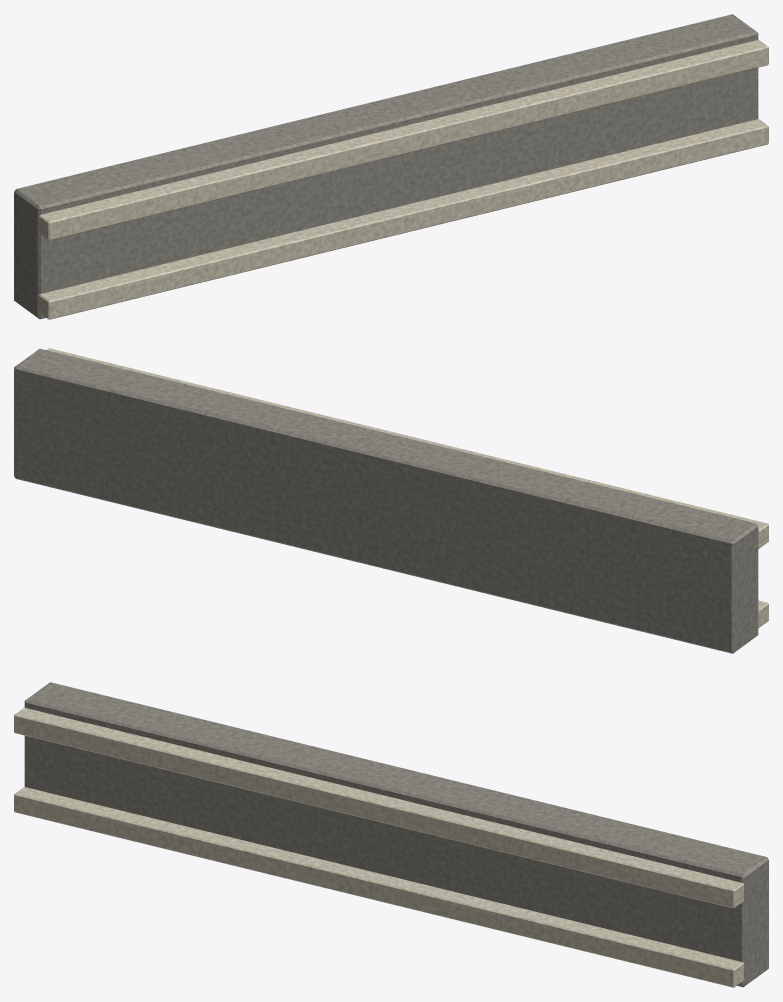
Rendered from TUNN1LIP_lod1.glb.
3 views of the same model, one above another, from view 1: azimuth 30°, elevation 25°; view 2: azimuth 150°, elevation 25°; view 3: azimuth 330°, elevation 25° (orthographic).
Parts seen in each view (by area): view 1: TUNN1LIP_LOD1; view 2: TUNN1LIP_LOD1; view 3: TUNN1LIP_LOD1.
Boxes of the visible parts, x1,y1,x2,y2 form: TUNN1LIP_LOD1: (14,14,768,319); TUNN1LIP_LOD1: (14,348,768,653); TUNN1LIP_LOD1: (14,682,768,987).
Size of the model in its own units: 4 by 0.6 by 0.345.
Materials: 2 (2 with a texture image).
